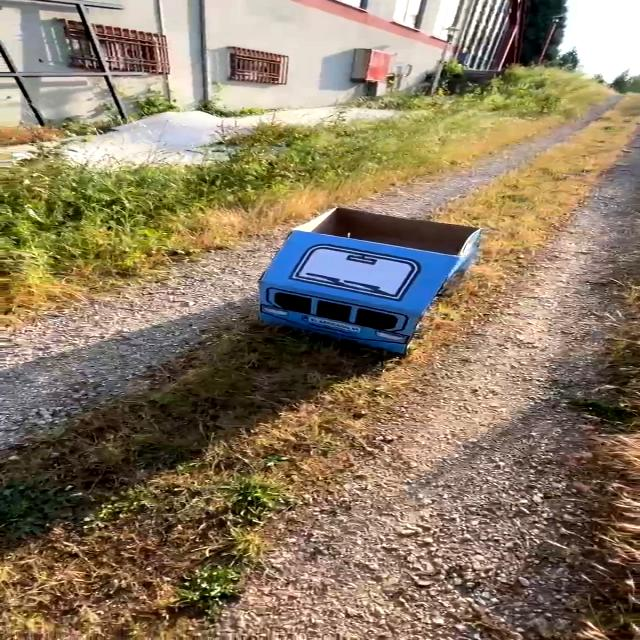blue_car: (189, 154, 509, 383)
